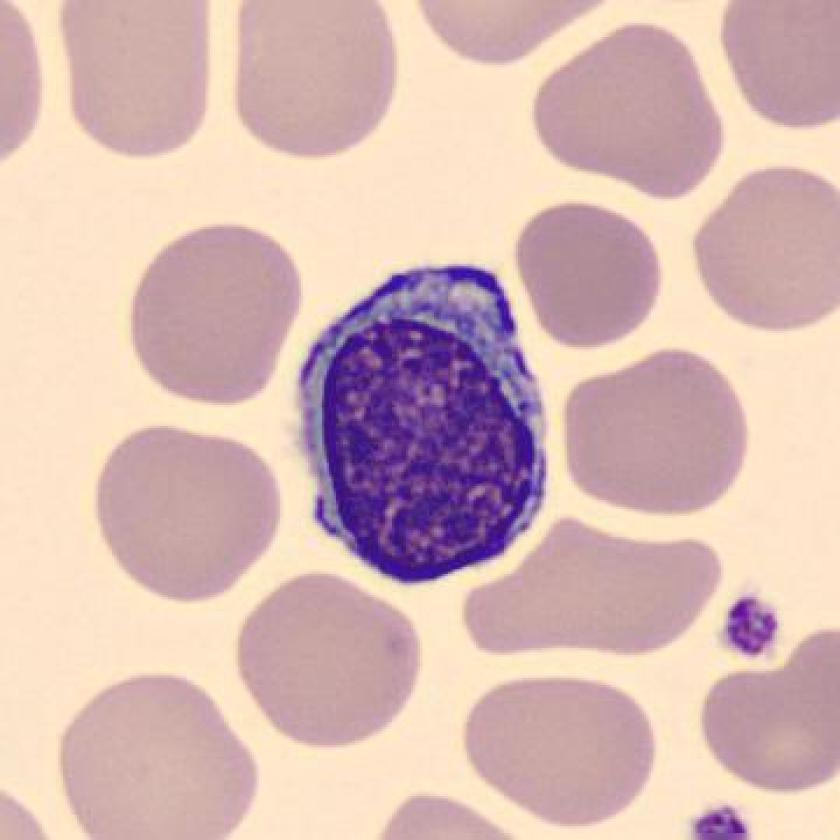lymphocyte: (279, 246, 573, 589)
platelets: (714, 586, 787, 669), (685, 796, 758, 840)
